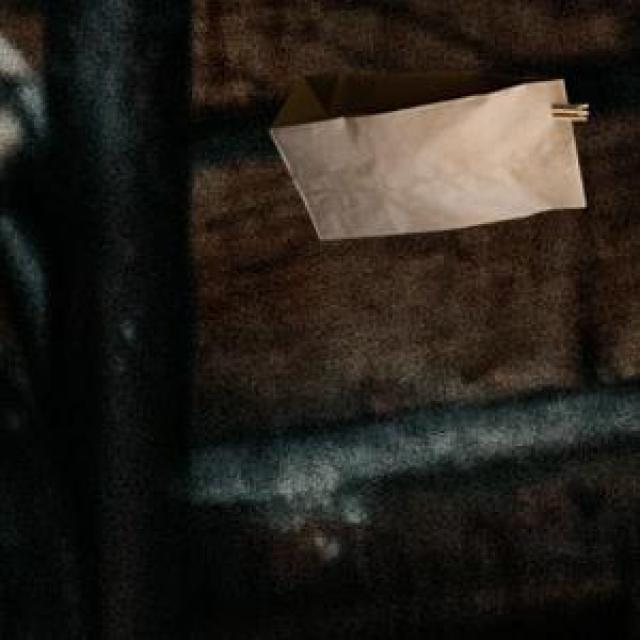paper: (265, 68, 582, 235)
